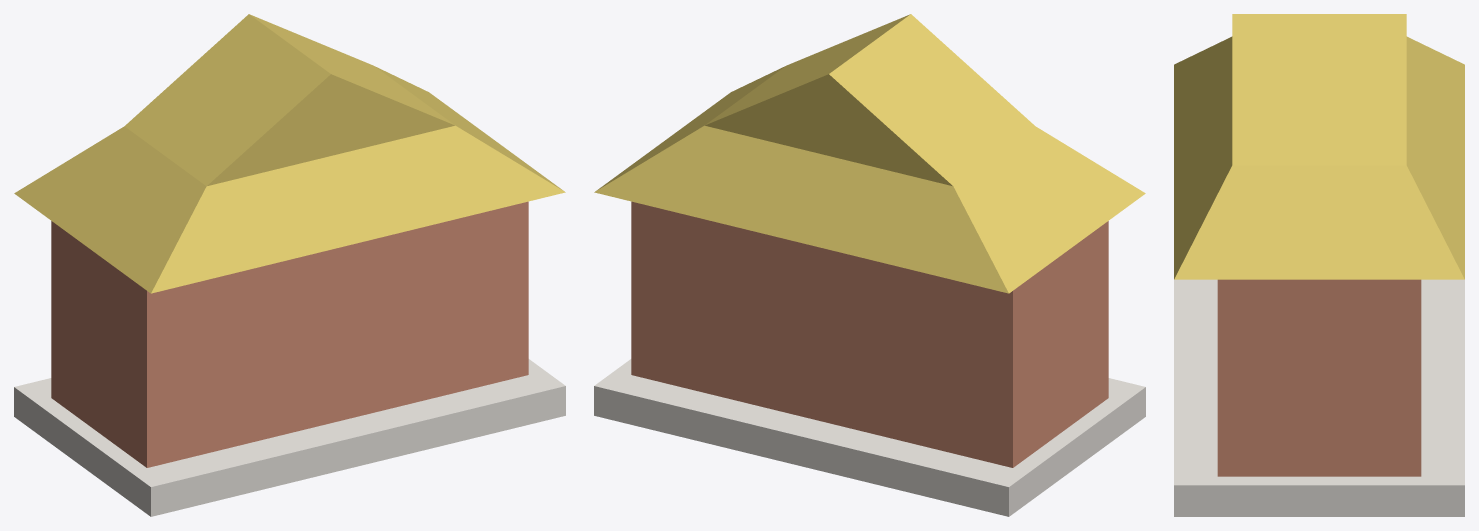
File: 乾清门.glb
3 views of the same model, side by side, from view 1: azimuth 30°, elevation 25°; view 2: azimuth 150°, elevation 25°; view 3: azimuth 270°, elevation 25° (orthographic). The views are drawn at different scales.
Visible parts, largest first — view 1: body, roof, platform; view 2: body, roof, platform; view 3: roof, body, platform.
Part boxes in pixels (bbox=[...]): body: bbox=[51, 201, 528, 467]; roof: bbox=[14, 14, 565, 293]; platform: bbox=[14, 359, 565, 516]; body: bbox=[631, 201, 1108, 467]; roof: bbox=[594, 14, 1145, 293]; platform: bbox=[594, 359, 1145, 516]; roof: bbox=[1174, 14, 1464, 279]; body: bbox=[1217, 279, 1421, 476]; platform: bbox=[1174, 279, 1464, 516].
Bounding box in the file's own units: 3.5 × 3 × 2.
